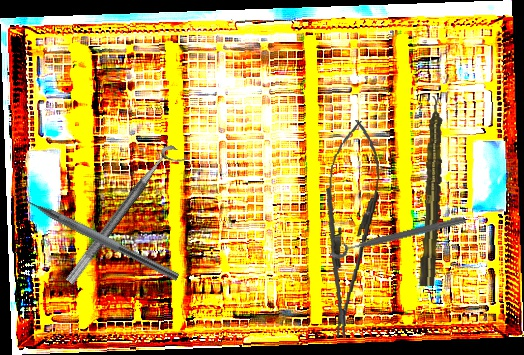Chopper: (10, 181, 186, 282)
Fixation Ring: (64, 141, 189, 295), (326, 205, 467, 261)
Handpiece: (418, 95, 446, 287)
Needle Holder: (313, 118, 385, 340)
